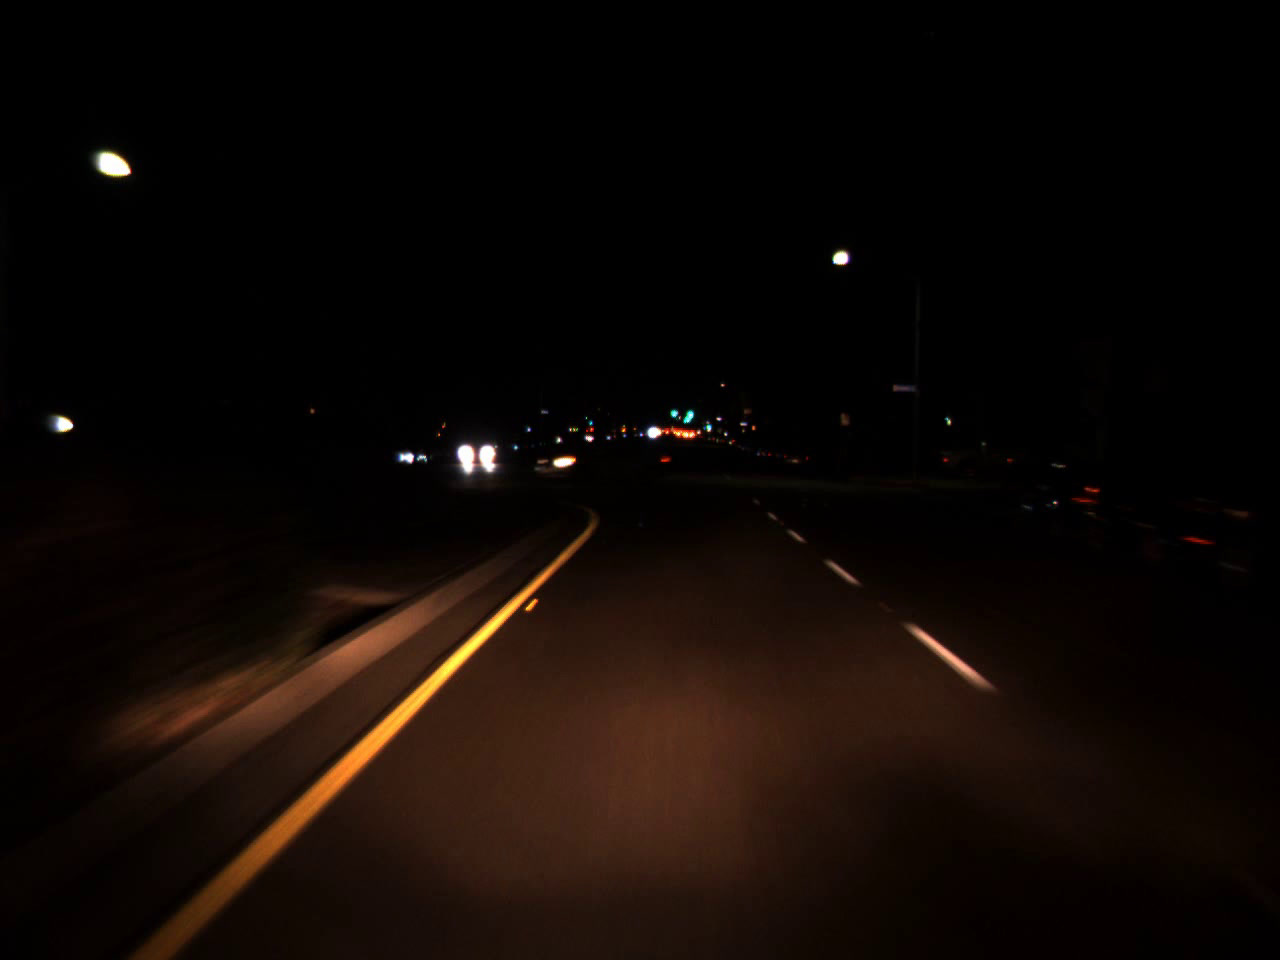go: (684, 398, 694, 425), (669, 399, 678, 419)
